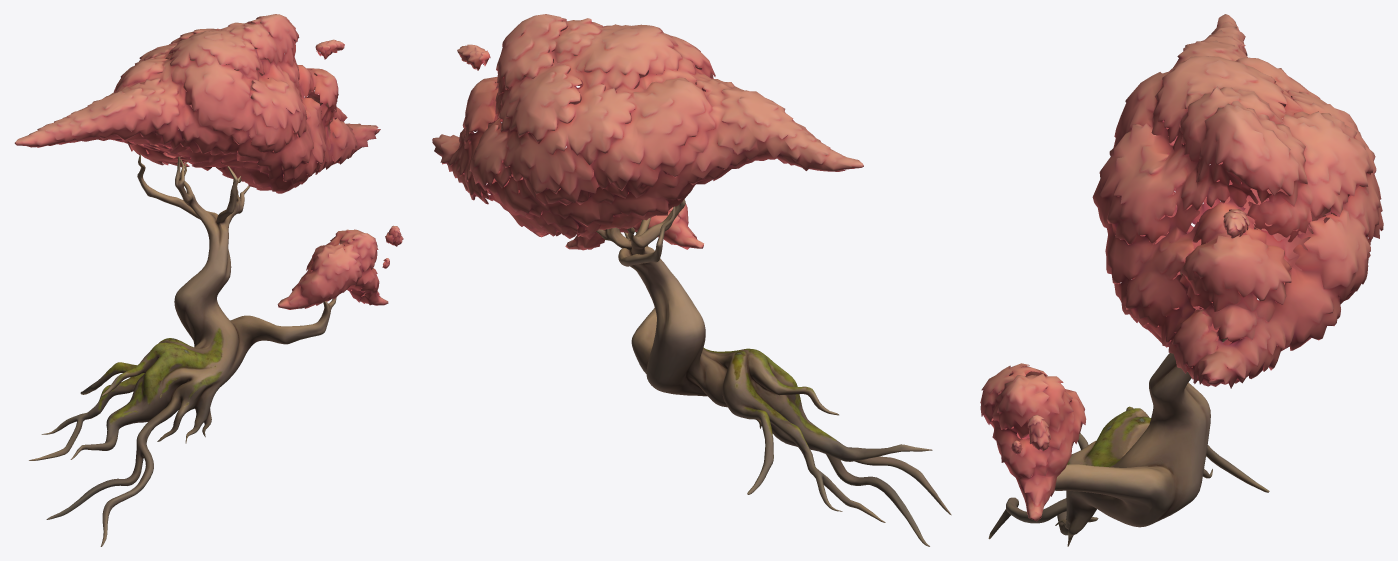
File: sky_tree_01b.glb
The picture shows the model from 3 angles, left to right: view 1: azimuth 30°, elevation 25°; view 2: azimuth 150°, elevation 25°; view 3: azimuth 270°, elevation 25°; orthographic projection. The views are drawn at different scales.
Visible parts, largest first — view 1: tree_01b; view 2: tree_01b; view 3: tree_01b.
Part boxes in pixels (box(x1,y1,x2,y2)): tree_01b: box(14, 14, 403, 546); tree_01b: box(432, 14, 951, 546); tree_01b: box(980, 14, 1383, 546).
Size of the model in its own units: 38.75 by 40.81 by 24.35.
Materials: 2 (2 with a texture image).
